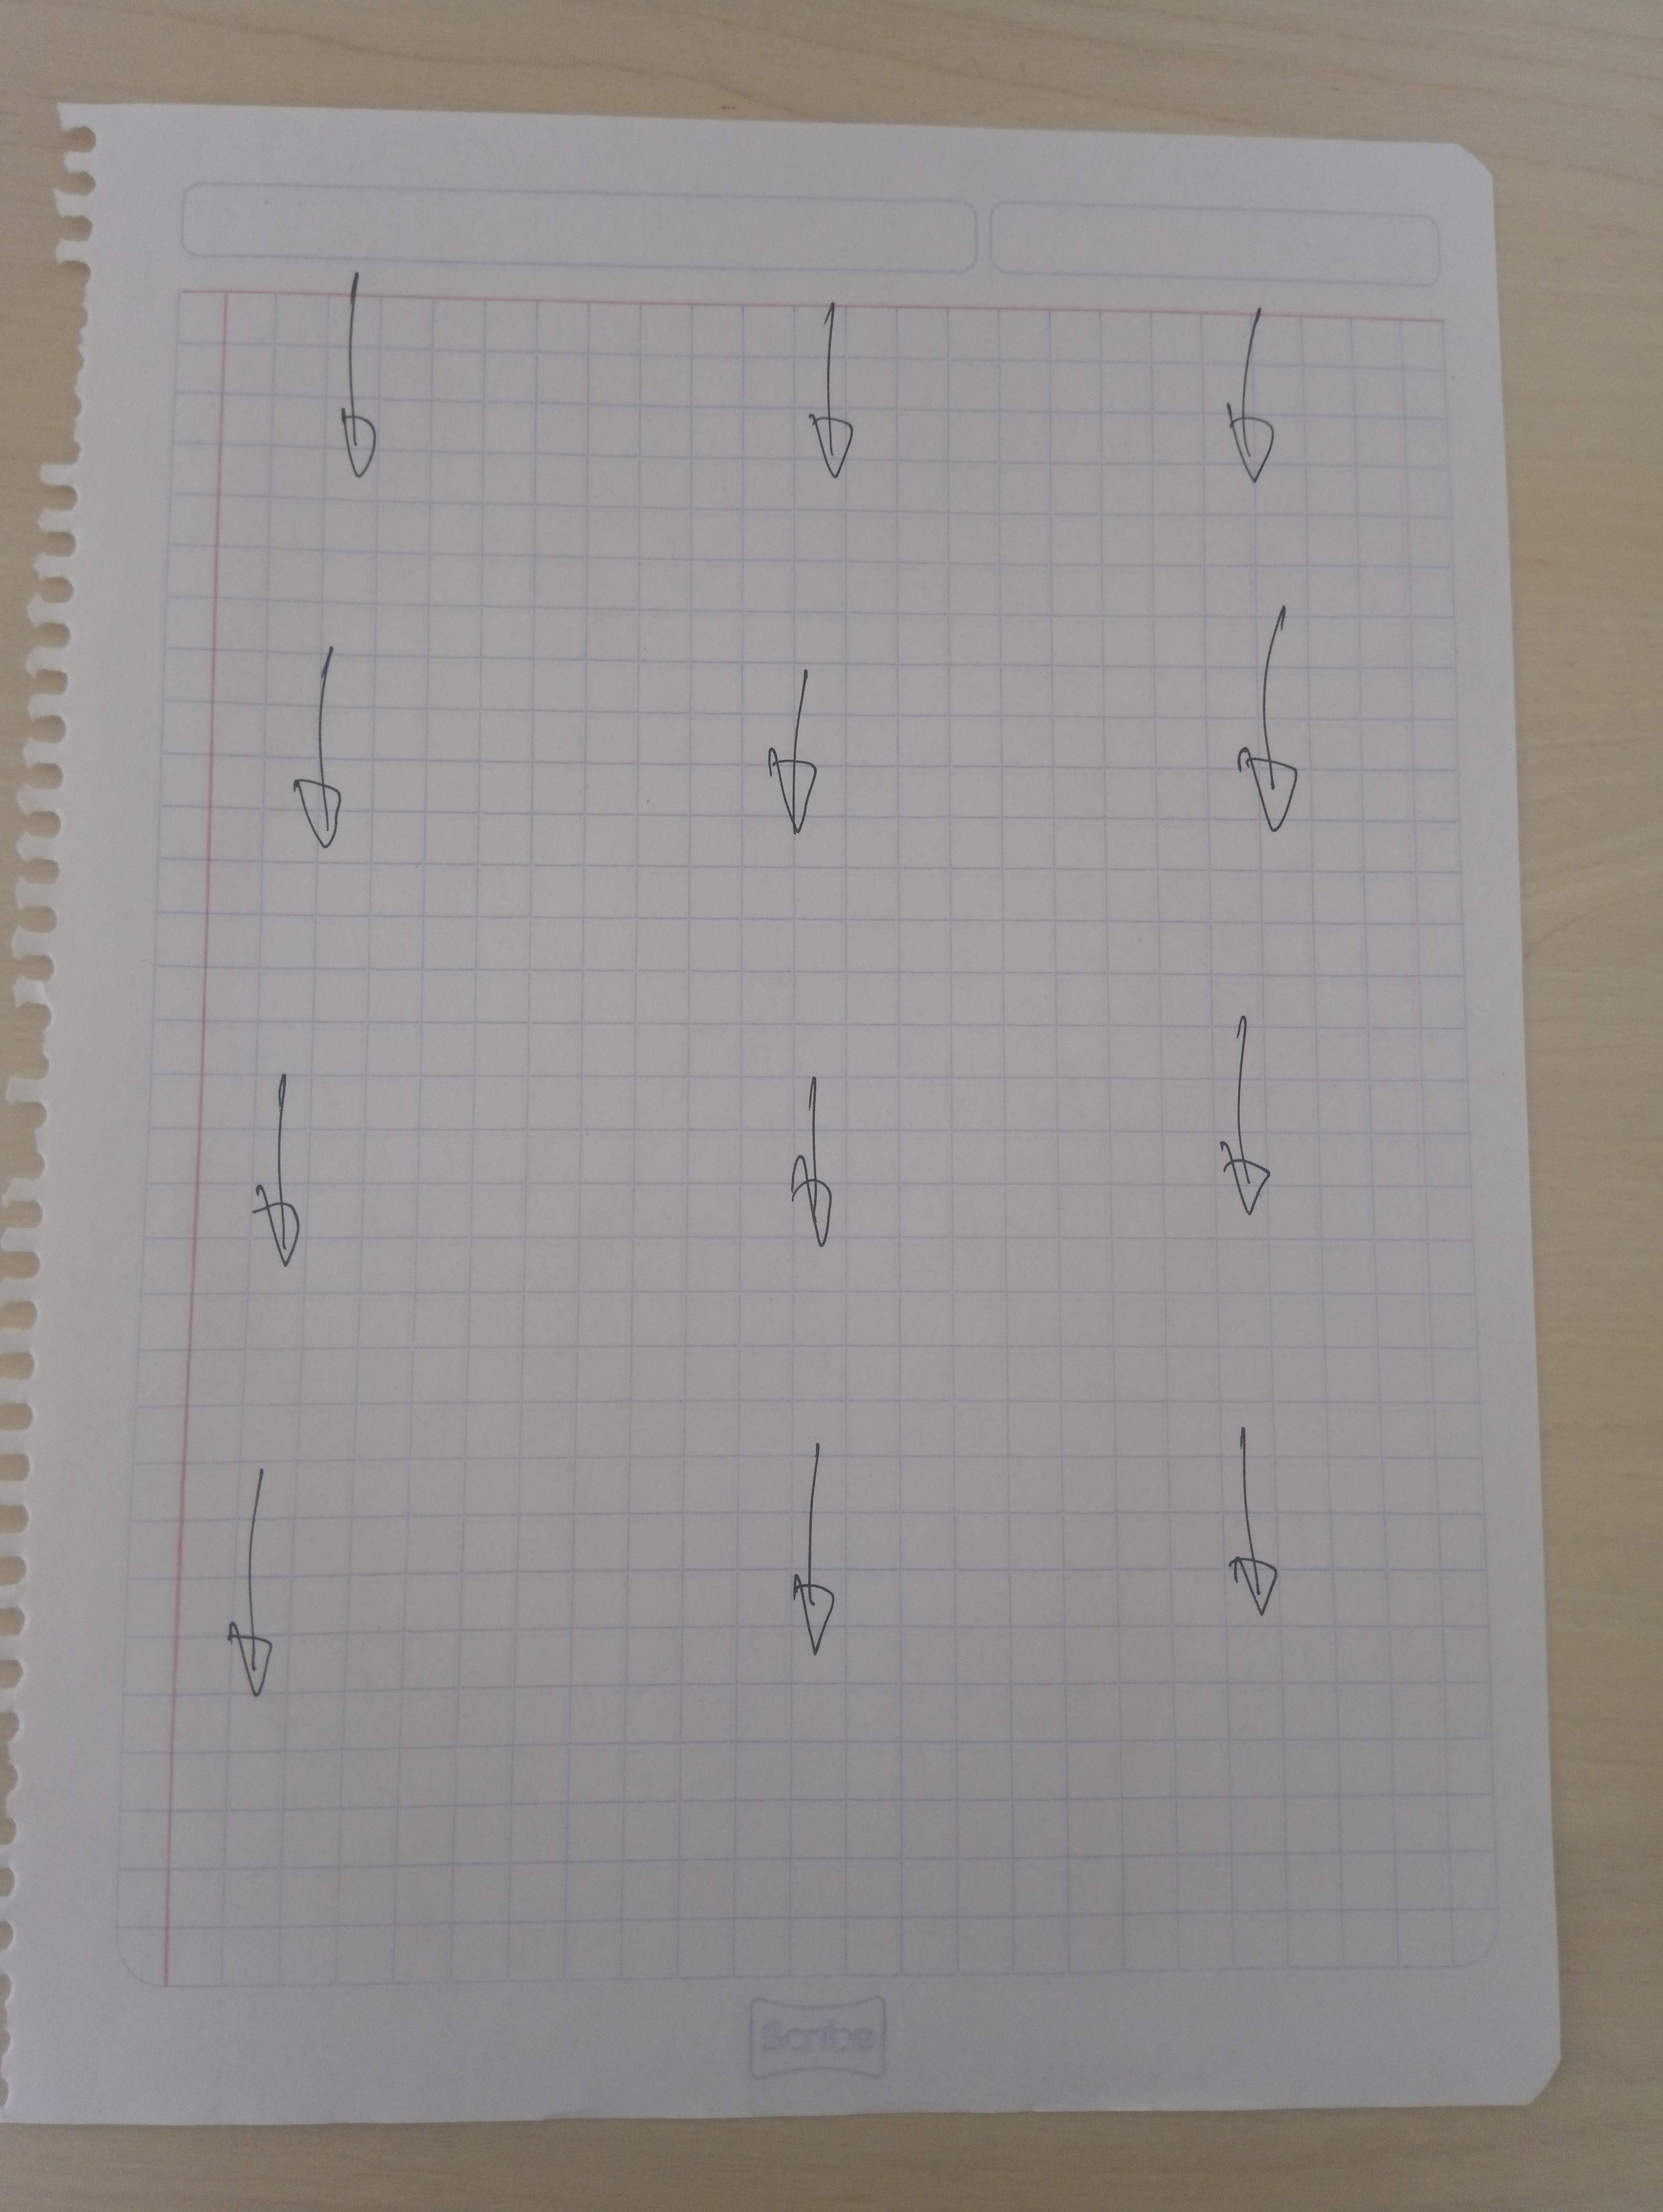arrow_line_down: (1216, 618, 1333, 835), (197, 1454, 292, 1714), (218, 1077, 328, 1274), (1198, 1432, 1312, 1622), (765, 1440, 854, 1674), (769, 1065, 865, 1261), (1198, 1011, 1289, 1215), (755, 665, 845, 848), (292, 641, 362, 871), (805, 288, 879, 494), (318, 255, 384, 482), (1216, 302, 1289, 478)
